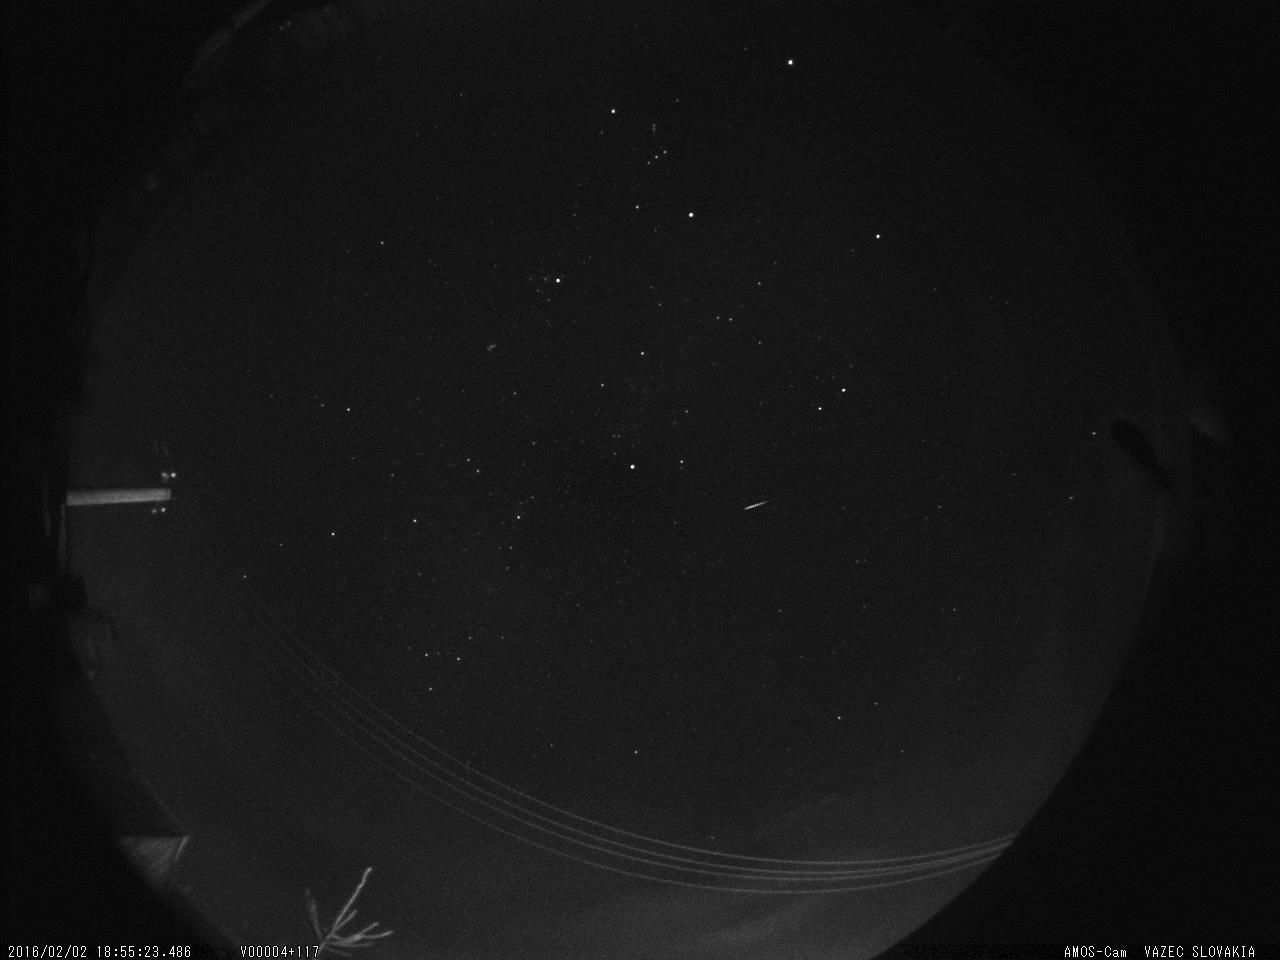meteor: (728, 490, 787, 516)
